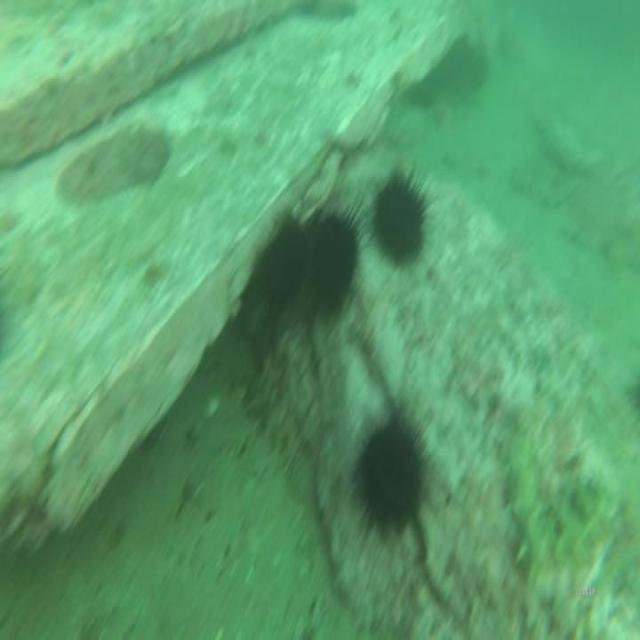echinus: (350, 392, 438, 551), (308, 186, 366, 335), (365, 149, 433, 275), (255, 212, 310, 321)
starfish: (494, 411, 618, 594)
